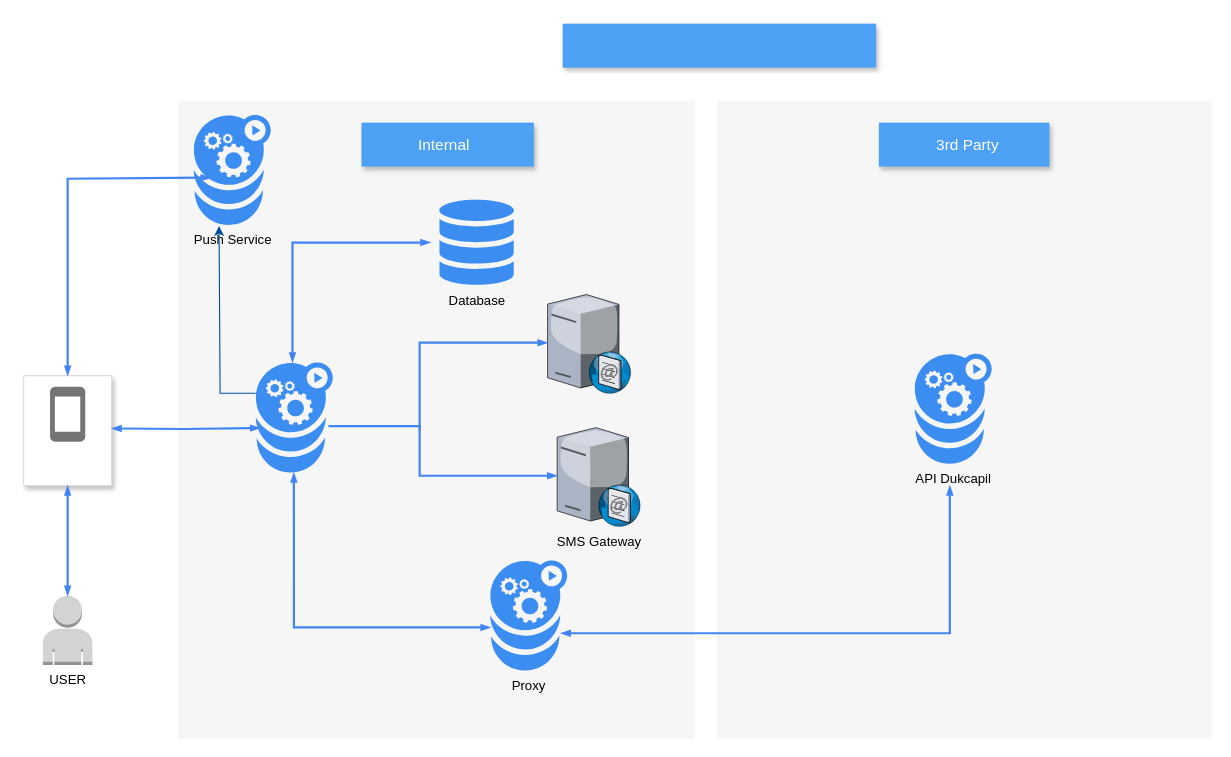
Some shapes in this 1231 by 757 pixel diagram are drawn without their labels. Each missing label, with the centre of its shape:
Android IOS: the point at 68,431
High Level Design Architecture: the point at 720,47
Mobile Backend Service API: the point at 293,417
SMTP Server: the point at 589,342
